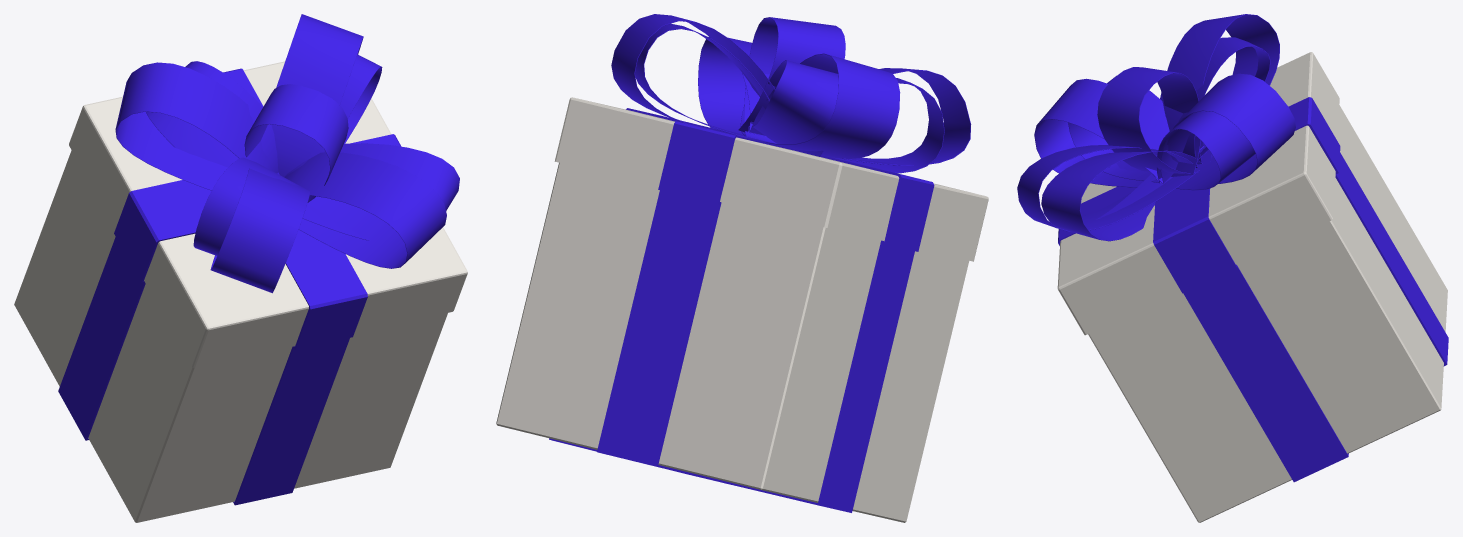
Rendered from gift_box4-BkvoggIN.glb.
The picture shows the model from 3 angles, left to right: view 1: azimuth 30°, elevation 25°; view 2: azimuth 150°, elevation 25°; view 3: azimuth 270°, elevation 25°; orthographic projection. The views are drawn at different scales.
Visible parts, largest first — view 1: box.002, top.004, BézierCurve.021, BézierCurve.026, Cube.012, Cube.011, BézierCurve.024, Cube.014, BézierCurve.023, Cube.013, BézierCurve.022, BézierCurve.019 (+3 smaller); view 2: box.002, top.004, Cube.012, Cube.011, BézierCurve.026, BézierCurve.019, Cube.014, BézierCurve.022, BézierCurve.025, BézierCurve.023, Cube.013, BézierCurve.024 (+2 smaller); view 3: box.002, top.004, Cube.011, Cube.013, BézierCurve.022, BézierCurve.023, BézierCurve.025, BézierCurve.026, BézierCurve.024, BézierCurve.018, Cube.012, BézierCurve.021 (+3 smaller).
Part boxes in pixels (<box>): box.002: <box>14,150,447,522</box>; top.004: <box>69,61,467,367</box>; BézierCurve.021: <box>285,152,446,268</box>; BézierCurve.026: <box>115,62,274,190</box>; Cube.012: <box>233,338,349,505</box>; Cube.011: <box>58,237,145,440</box>; BézierCurve.024: <box>210,168,310,293</box>; Cube.014: <box>223,68,367,349</box>; BézierCurve.023: <box>271,14,363,176</box>; Cube.013: <box>114,134,401,282</box>; BézierCurve.022: <box>244,84,348,202</box>; BézierCurve.019: <box>146,61,278,173</box>; box.002: <box>496,162,969,522</box>; top.004: <box>554,97,988,261</box>; Cube.012: <box>597,190,721,480</box>; Cube.011: <box>549,240,914,512</box>; BézierCurve.026: <box>749,53,900,158</box>; BézierCurve.019: <box>748,60,838,156</box>; Cube.014: <box>658,121,793,204</box>; BézierCurve.022: <box>738,17,845,143</box>; BézierCurve.025: <box>698,37,766,136</box>; BézierCurve.023: <box>611,14,775,130</box>; Cube.013: <box>626,108,934,251</box>; BézierCurve.024: <box>842,68,971,165</box>; box.002: <box>1088,105,1447,522</box>; top.004: <box>1057,52,1339,335</box>; Cube.011: <box>1183,264,1348,482</box>; Cube.013: <box>1153,150,1237,293</box>; BézierCurve.022: <box>1097,67,1200,176</box>; BézierCurve.023: <box>1160,73,1295,185</box>; BézierCurve.025: <box>1041,150,1201,241</box>; BézierCurve.026: <box>1160,14,1279,164</box>; BézierCurve.024: <box>1034,78,1203,187</box>; BézierCurve.018: <box>1156,111,1255,190</box>; Cube.012: <box>1335,152,1448,366</box>; BézierCurve.021: <box>1017,145,1199,231</box>.
Bounding box in the file's own units: 2.11 × 3.37 × 3.13.
